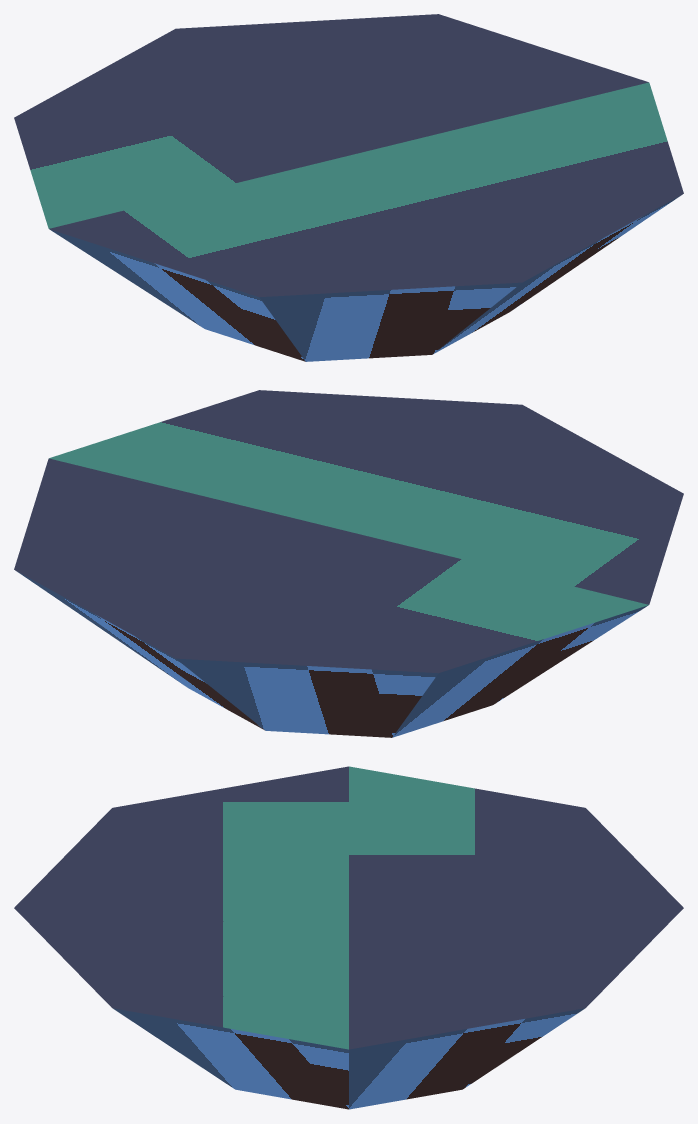
The model's file is wprop.bucket__basin.glb.
3 renders of one model, top to bottom at view 1: azimuth 30°, elevation 25°; view 2: azimuth 150°, elevation 25°; view 3: azimuth 270°, elevation 25°, orthographic. The views are drawn at different scales.
Visible parts, largest first — view 1: kit_basin; view 2: kit_basin; view 3: kit_basin.
Part boxes in pixels (x1,y1,x2,y2): kit_basin: [14, 14, 683, 361]; kit_basin: [14, 390, 683, 737]; kit_basin: [14, 766, 683, 1109].
Size of the model in its own units: 0.5 by 0.11 by 0.5.
3 materials, 3 textured.
